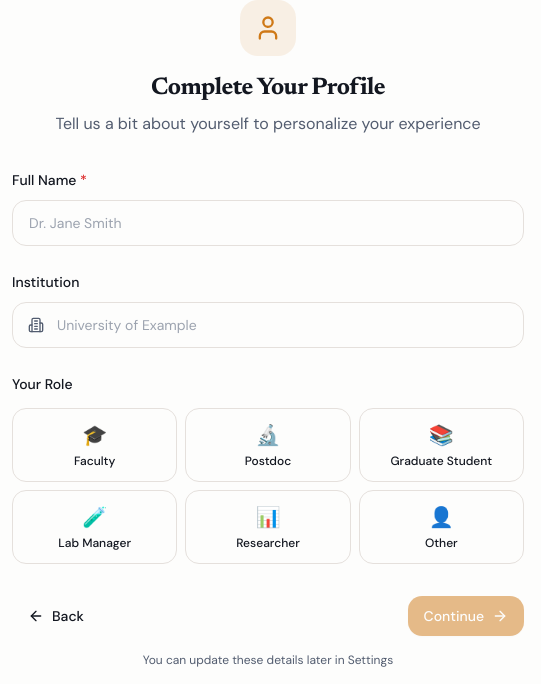
Scenario: StepProfile › Continue button is enabled when name is entered
In the field with placeholder "Dr. Jane Smith": (268,223) [12,200,524,246], type "Dr. Test User"
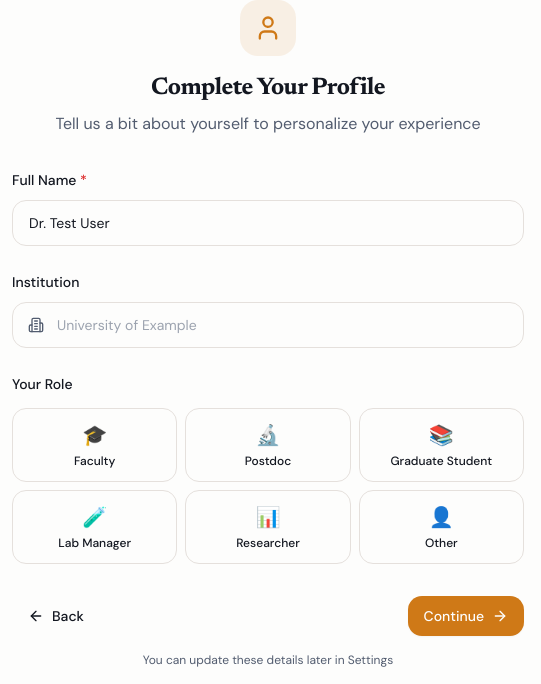
Expected: the button "Continue" is enabled, [408,596,524,636]
